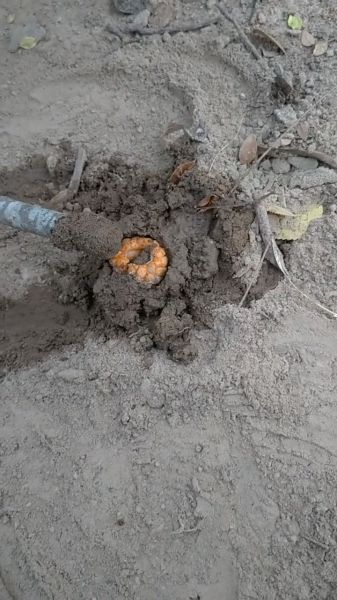eggs: (95, 224, 176, 295)
